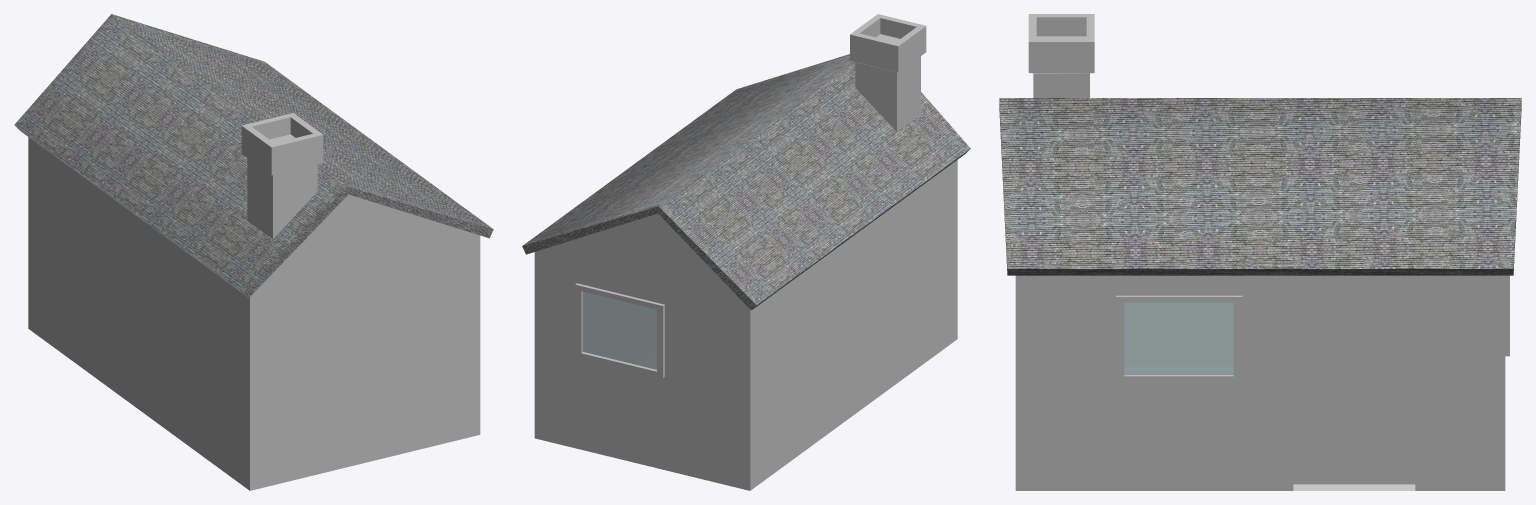
The model's file is House_14.fbx.
3 renders of one model, left to right at view 1: azimuth 30°, elevation 25°; view 2: azimuth 150°, elevation 25°; view 3: azimuth 270°, elevation 25°, orthographic. The views are drawn at different scales.
Parts seen in each view (by area): view 1: House_011, House_09, House_08_chimney; view 2: House_011, House_09, House_08_chimney, House_012, House_010; view 3: House_09, House_011, House_013, House_012, House_08_chimney, House_010.
Part boxes in pixels (x1,y1,x2,y2): House_011: (28, 137, 480, 490); House_09: (14, 14, 493, 297); House_08_chimney: (241, 113, 323, 238); House_011: (534, 160, 957, 490); House_09: (522, 54, 970, 310); House_08_chimney: (850, 14, 926, 131); House_012: (583, 291, 656, 369); House_010: (575, 283, 664, 377); House_09: (999, 98, 1521, 275); House_011: (1015, 275, 1505, 490); House_013: (1293, 295, 1415, 484); House_012: (1124, 302, 1233, 374); House_08_chimney: (1028, 14, 1094, 97); House_010: (1116, 275, 1509, 382).
Bounding box in the file's own units: 131 × 166 × 213.
